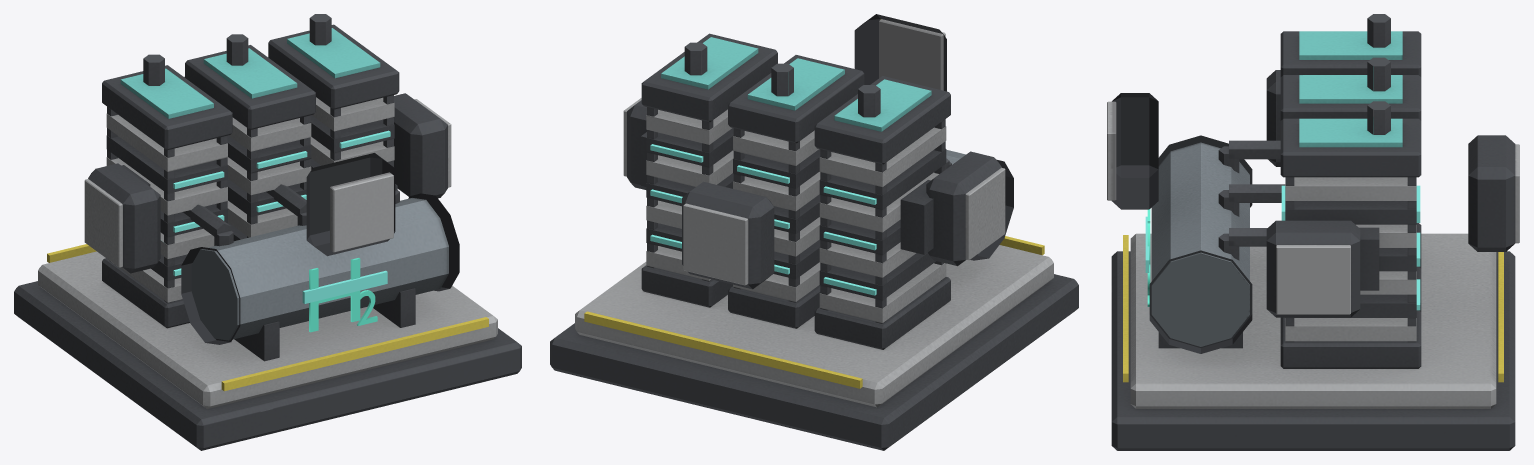
File: SM_FuelCell.fbx
3 renders of one model, left to right at view 1: azimuth 30°, elevation 25°; view 2: azimuth 150°, elevation 25°; view 3: azimuth 270°, elevation 25°, orthographic. The views are drawn at different scales.
Parts seen in each view (by area): view 1: SMN_FuelCell, Lamp, Emblem_FuelCell; view 2: SMN_FuelCell, Lamp; view 3: SMN_FuelCell, Lamp.
Part boxes in pixels (left/top/right/bottom): SMN_FuelCell: left=14, top=14, right=521, bottom=450; Lamp: left=173, top=130, right=390, bottom=303; Emblem_FuelCell: left=309, top=257, right=377, bottom=332; SMN_FuelCell: left=550, top=14, right=1078, bottom=450; Lamp: left=650, top=144, right=876, bottom=295; SMN_FuelCell: left=1107, top=14, right=1519, bottom=450; Lamp: left=1145, top=185, right=1420, bottom=310.
Size of the model in its own units: 0.88 by 0.72 by 0.88.
